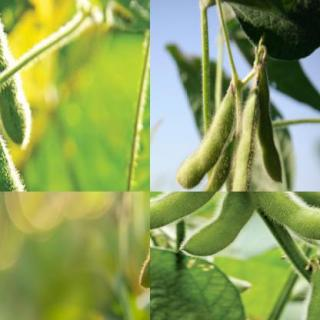soya: (177, 91, 235, 190), (178, 192, 257, 259), (0, 0, 33, 147), (0, 111, 52, 191), (150, 191, 229, 234), (254, 192, 319, 243), (256, 72, 283, 184), (231, 94, 258, 190), (192, 158, 230, 191), (138, 196, 150, 289), (283, 192, 319, 208)
